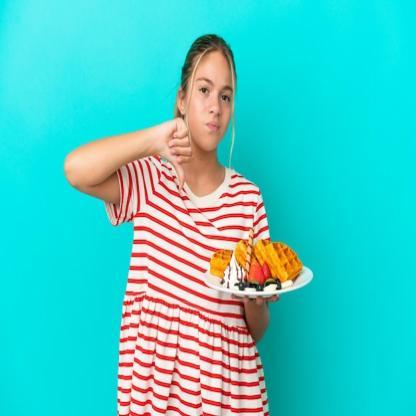thumb_down: (147, 105, 207, 207)
